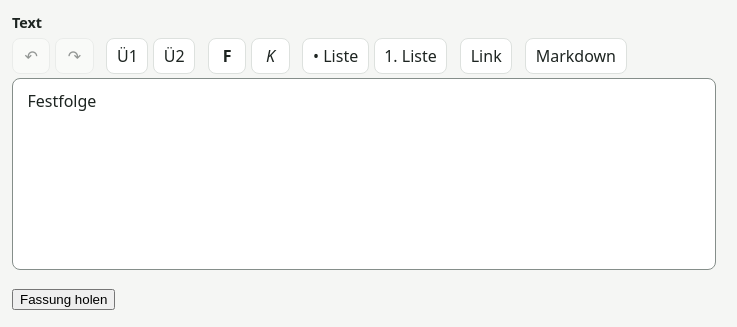
Editor für Webseitentexte › macht per Knopf eine Überschrift und eine Liste daraus
Click the button named "Überschrift" at (127, 56), box [106,38,148,74]
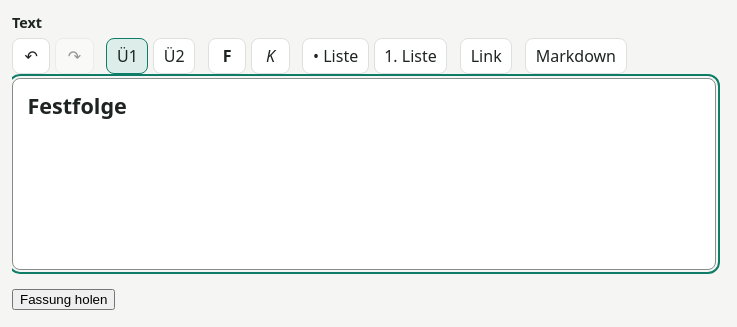
Expected: the button named "Überschrift" is pressed
Click the button named "Überschrift" at (127, 56), box [106,38,148,74]
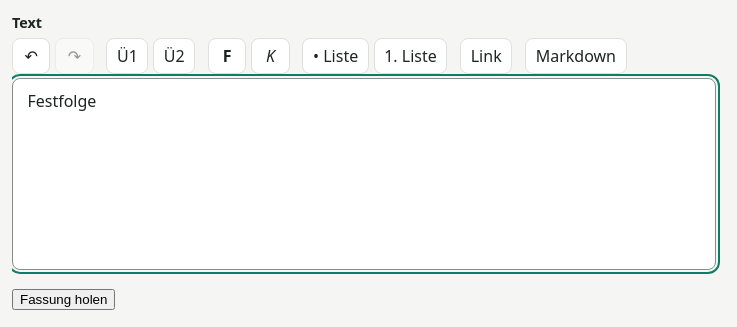
Click the button with aria-label "Aufzählung" at (336, 56), box [302,38,369,74]
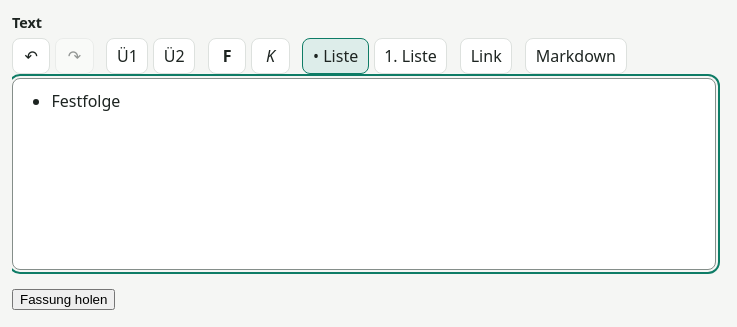
Click the button with aria-label "Nummerierte Liste" at (410, 56), box [374,38,447,74]
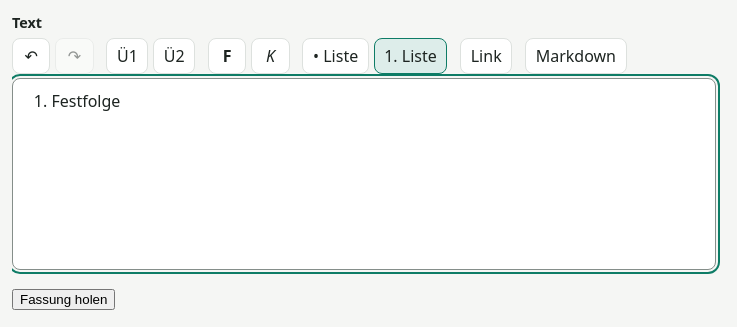
// Rückgängig nimmt schnell aufeinanderfolgende Schritte zusammen zurück
Click the button named "Rückgängig (Strg+Z)" at (31, 56), box [12,38,50,74]
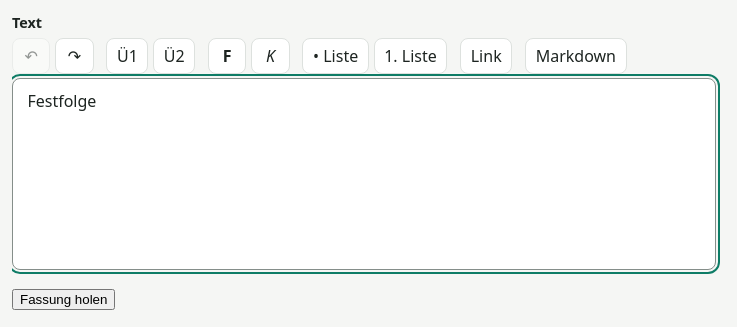
Expected: the list is gone
